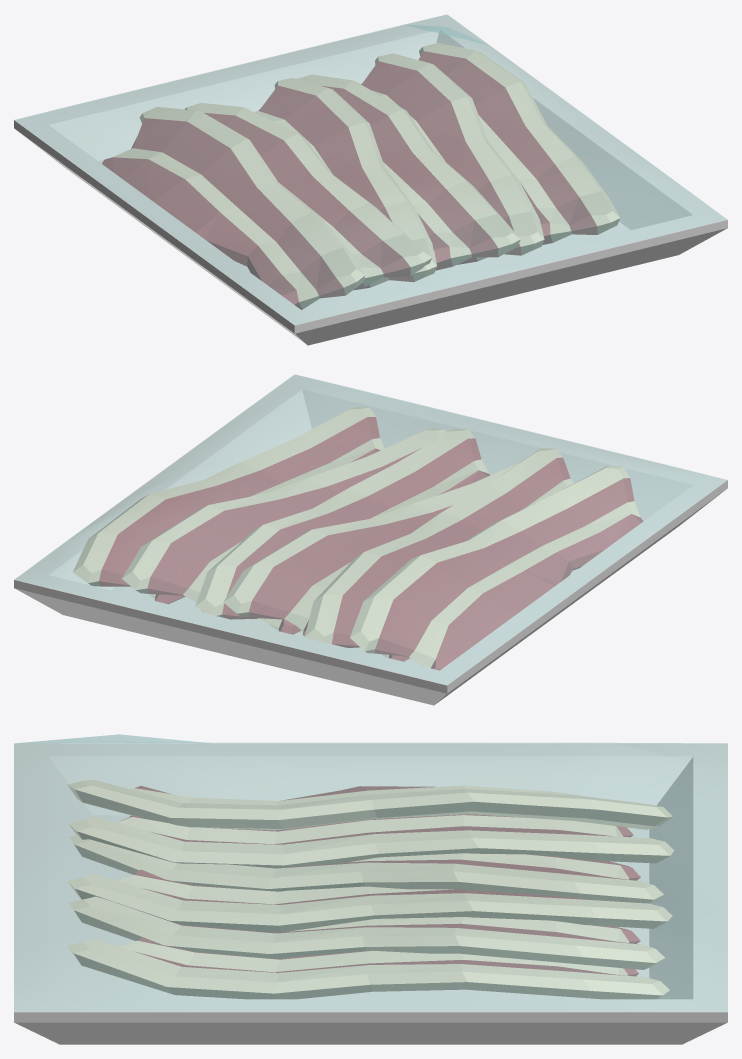
Rendered from Bacon_Pack.fbx.
3 views of the same model, one above another, from view 1: azimuth 30°, elevation 25°; view 2: azimuth 150°, elevation 25°; view 3: azimuth 270°, elevation 25° (orthographic). The views are drawn at different scales.
Visible parts, largest first — view 1: Bacon7; view 2: Bacon7; view 3: Bacon7.
Part boxes in pixels (left/top/right/bottom): Bacon7: left=14, top=14, right=727, bottom=345; Bacon7: left=14, top=374, right=727, bottom=705; Bacon7: left=14, top=734, right=727, bottom=1044.
Size of the model in its own units: 32.86 by 5.53 by 36.89.
